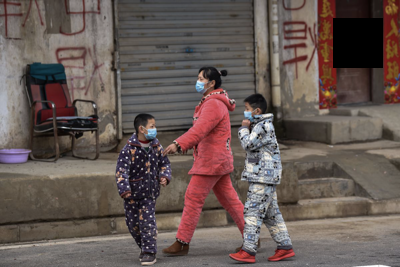with_mask: (195, 75, 208, 95), (144, 122, 157, 141), (243, 106, 254, 123)
